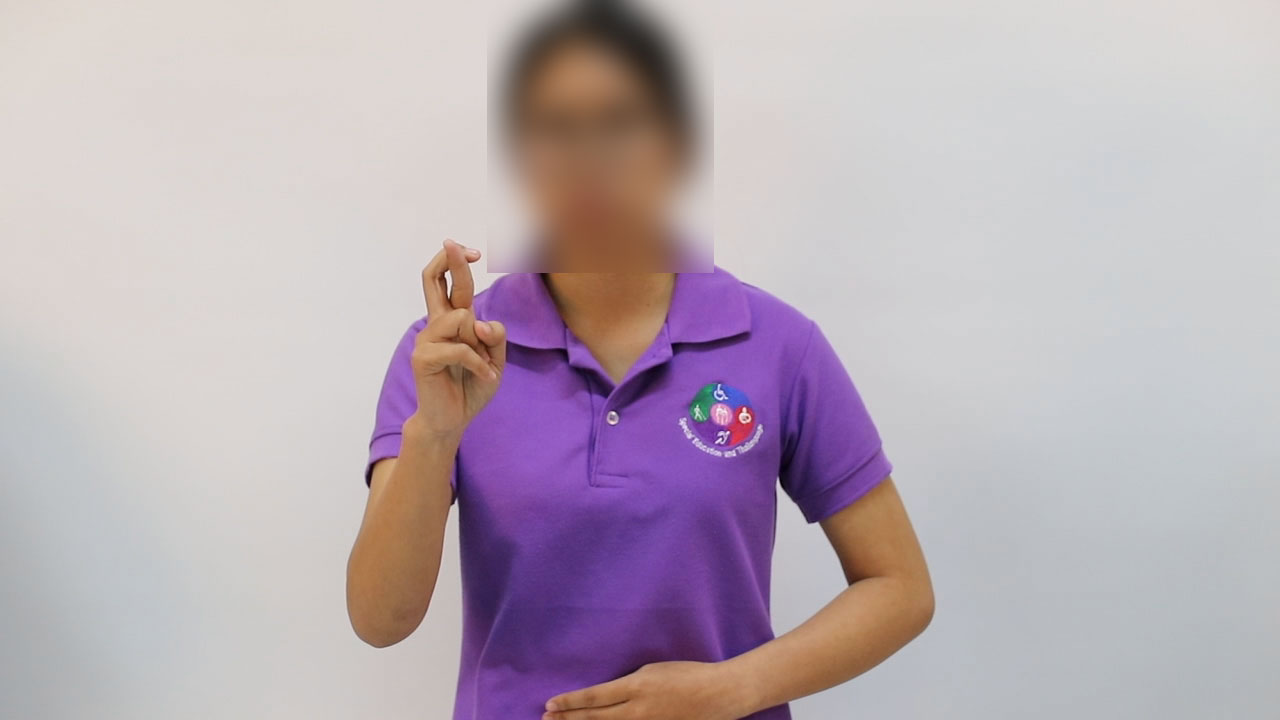rao: (387, 236, 516, 441)
